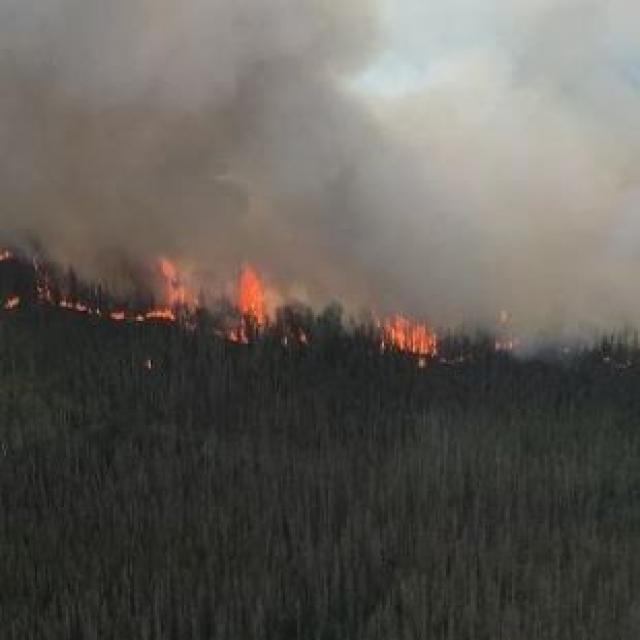Fire: (50, 293, 186, 328), (380, 299, 442, 368), (227, 266, 285, 331), (141, 253, 203, 309)
Smoke: (0, 0, 640, 347)
